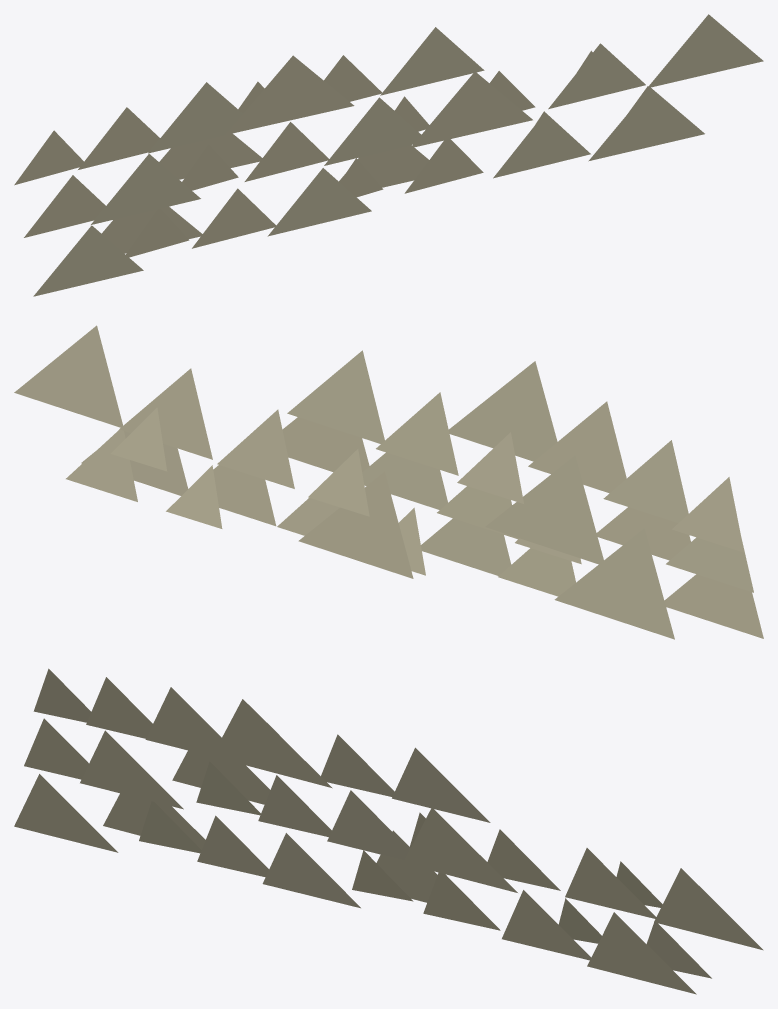
The model's file is prop_bulk_gen_0995_lod0.gltf.
3 views of the same model, one above another, from view 1: azimuth 30°, elevation 25°; view 2: azimuth 150°, elevation 25°; view 3: azimuth 330°, elevation 25° (orthographic). The views are drawn at different scales.
Visible parts, largest first — view 1: prop_bulk_gen_0995_lod0; view 2: prop_bulk_gen_0995_lod0; view 3: prop_bulk_gen_0995_lod0.
Boxes of the visible parts, x1=… form: prop_bulk_gen_0995_lod0: x1=14, y1=14, x2=763, y2=296; prop_bulk_gen_0995_lod0: x1=14, y1=325, x2=763, y2=639; prop_bulk_gen_0995_lod0: x1=14, y1=668, x2=763, y2=994.
Size of the model in its own units: 0.7975 by 0.2058 by 0.0845.
